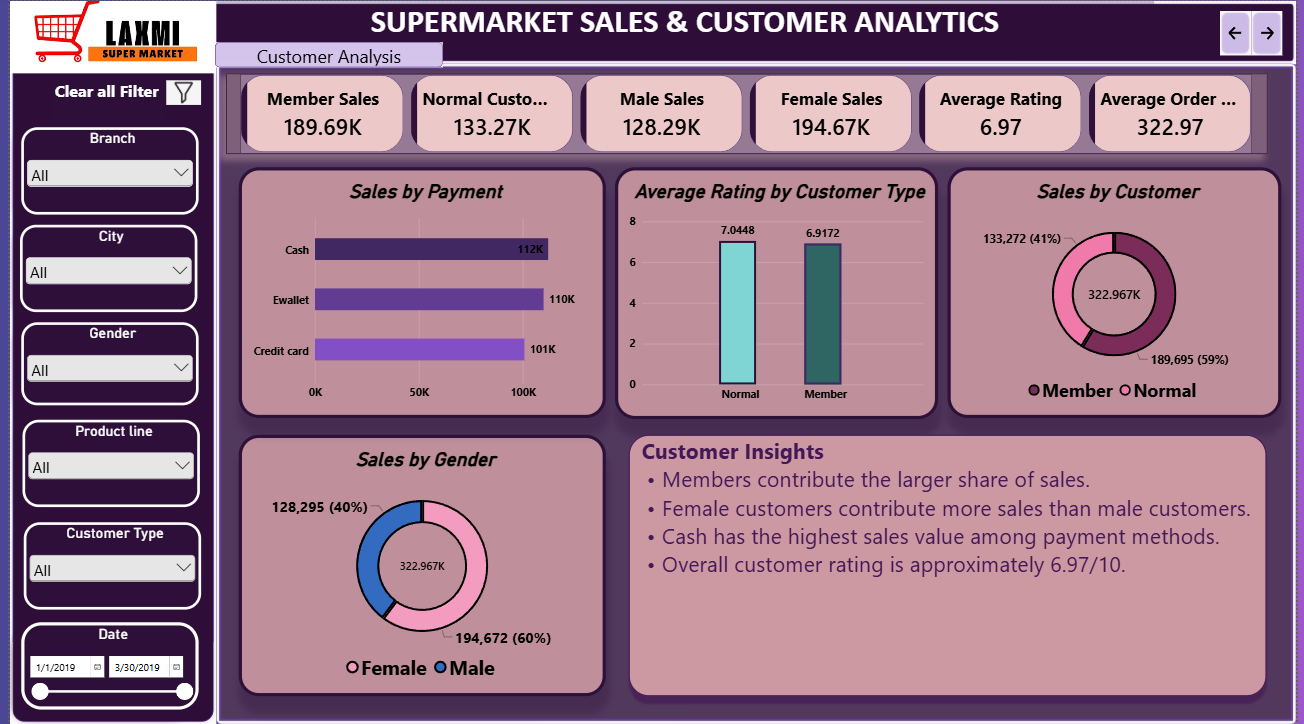

What the dashboard file says about the page in this screenshot:
{"tool":"powerbi","page":{"name":"Customer Analysis","canvas":[1920,1080],"ordinal":2},"visuals":[{"type":"shape","box":[0,0,308,1080],"z":0},{"type":"slicer","title":"Date","fields":{"Values":["Sales.Date"]},"box":[16,926,265,130],"z":0,"group":"g1"},{"type":"shape","box":[0,0,1920,94],"z":1000},{"type":"slicer","title":"Customer Type","fields":{"Values":["Sales.Customer type"]},"box":[20,778,265,130],"z":1000,"group":"g1"},{"type":"textbox","box":[286,0,1422,70],"z":2000},{"type":"slicer","title":"Gender","fields":{"Values":["Sales.Gender"]},"box":[16,480,265,124],"z":2000,"group":"g1"},{"type":"image","box":[0,0,308,108],"z":3000},{"type":"slicer","title":"City","fields":{"Values":["Sales.City"]},"box":[14,334,265,130],"z":3000,"group":"g1"},{"type":"shape","box":[308,94,1612,986],"z":4000},{"type":"slicer","title":"Product line","fields":{"Values":["Sales.Product line"]},"box":[18,624,265,130],"z":4000,"group":"g1"},{"type":"actionButton","box":[1852,14,46.7,66.7],"z":5000},{"type":"slicer","title":"Branch","fields":{"Values":["Sales.Branch"]},"box":[16,188,265,130],"z":5000,"group":"g1"},{"type":"actionButton","box":[1806,14,46,66],"z":6000},{"type":"group","id":"g1","title":"Group 1","box":[14,188,271,868],"z":7000},{"type":"textbox","box":[62,118,172,62],"z":8000},{"type":"donutChart","title":"Sales by Gender","fields":{"Category":["Sales.Gender"],"Y":["Measure.Total Sales"]},"box":[342,648,548,390],"z":9000},{"type":"donutChart","title":"Sales by Customer","fields":{"Category":["Sales.Customer type"],"Y":["Measure.Total Sales"]},"box":[1400,248,498,374],"z":10000},{"type":"clusteredColumnChart","title":"Average Rating by Customer Type","fields":{"Category":["Sales.Customer type"],"Y":["Measure.Average Rating"]},"box":[904,248,482,376],"z":11000},{"type":"cardVisual","fields":{"Data":["Measure.Member Sales","Measure.Normal Customer Sales","Measure.Male Sales","Measure.Female Sales","Measure.Average Rating","Measure.Average Order Value"]},"box":[322,108,1554,120],"z":12000},{"type":"barChart","title":"Sales by Payment","fields":{"Category":["Sales.Payment"],"Y":["Measure.Total Sales"]},"box":[342,248,548,374],"z":13000},{"type":"textbox","box":[924,648,952,390],"z":14000},{"type":"shape","box":[306,62,340,37.5],"z":15000},{"type":"image","box":[234,118,52,38],"z":16000}]}

Visuals, with their boxes in screenshot pixels (x1, y1, x2, y2), scaled from the page's 1920x1080 canvas onto the 1304x724 screenshot:
shape: {"x1": 0, "y1": 0, "x2": 209, "y2": 723}
"Date" slicer: {"x1": 11, "y1": 621, "x2": 191, "y2": 708}
shape: {"x1": 0, "y1": 0, "x2": 1303, "y2": 63}
"Customer Type" slicer: {"x1": 14, "y1": 522, "x2": 194, "y2": 609}
textbox: {"x1": 194, "y1": 0, "x2": 1160, "y2": 47}
"Gender" slicer: {"x1": 11, "y1": 322, "x2": 191, "y2": 405}
image: {"x1": 0, "y1": 0, "x2": 209, "y2": 72}
"City" slicer: {"x1": 10, "y1": 224, "x2": 189, "y2": 311}
shape: {"x1": 209, "y1": 63, "x2": 1303, "y2": 723}
"Product line" slicer: {"x1": 12, "y1": 418, "x2": 192, "y2": 505}
actionButton: {"x1": 1258, "y1": 9, "x2": 1290, "y2": 54}
"Branch" slicer: {"x1": 11, "y1": 126, "x2": 191, "y2": 213}
actionButton: {"x1": 1227, "y1": 9, "x2": 1258, "y2": 54}
"Group 1" group: {"x1": 10, "y1": 126, "x2": 194, "y2": 708}
textbox: {"x1": 42, "y1": 79, "x2": 159, "y2": 121}
"Sales by Gender" donutChart: {"x1": 232, "y1": 434, "x2": 604, "y2": 696}
"Sales by Customer" donutChart: {"x1": 951, "y1": 166, "x2": 1289, "y2": 417}
"Average Rating by Customer Type" clusteredColumnChart: {"x1": 614, "y1": 166, "x2": 941, "y2": 418}
cardVisual - Measure.Member Sales x Measure.Normal Customer Sales: {"x1": 219, "y1": 72, "x2": 1274, "y2": 153}
"Sales by Payment" barChart: {"x1": 232, "y1": 166, "x2": 604, "y2": 417}
textbox: {"x1": 628, "y1": 434, "x2": 1274, "y2": 696}
shape: {"x1": 208, "y1": 42, "x2": 439, "y2": 67}
image: {"x1": 159, "y1": 79, "x2": 194, "y2": 105}
